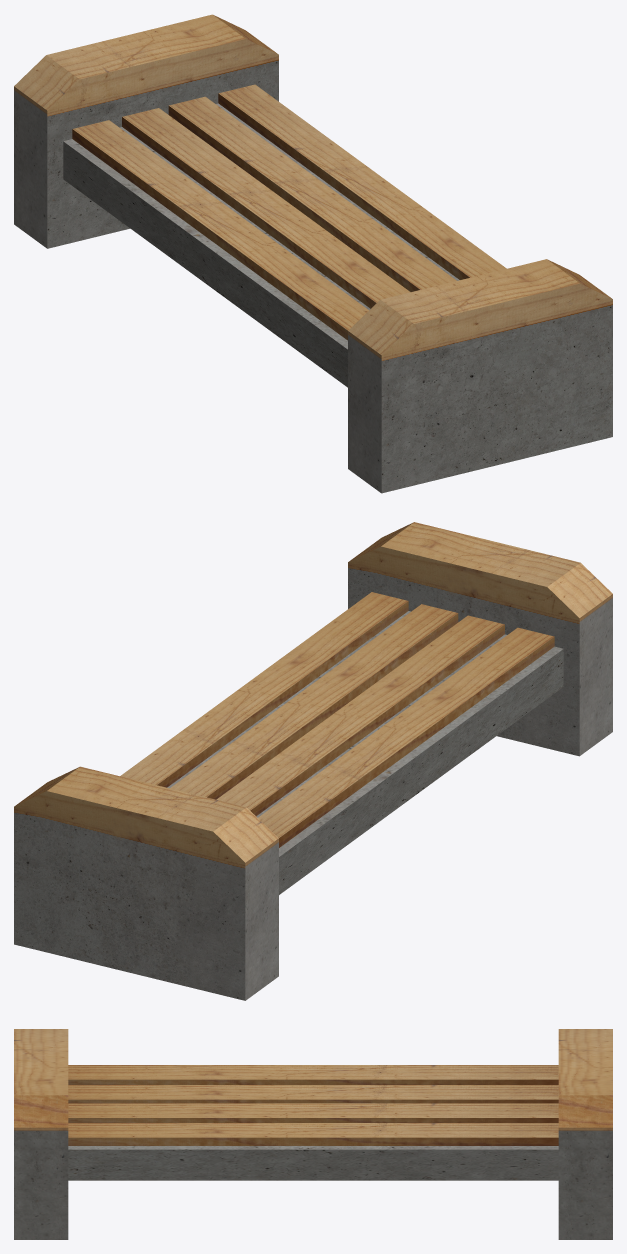
File: Bench04s.FBX
3 views of the same model, one above another, from view 1: azimuth 30°, elevation 25°; view 2: azimuth 150°, elevation 25°; view 3: azimuth 270°, elevation 25° (orthographic). The views are drawn at different scales.
Visible parts, largest first — view 1: Bench04s; view 2: Bench04s; view 3: Bench04s.
Boxes of the visible parts, <box> form: Bench04s: <box>14,14,612,493</box>; Bench04s: <box>14,522,612,1000</box>; Bench04s: <box>14,1029,612,1239</box>.
Bounding box in the file's own units: 1100 × 733 × 3024.
